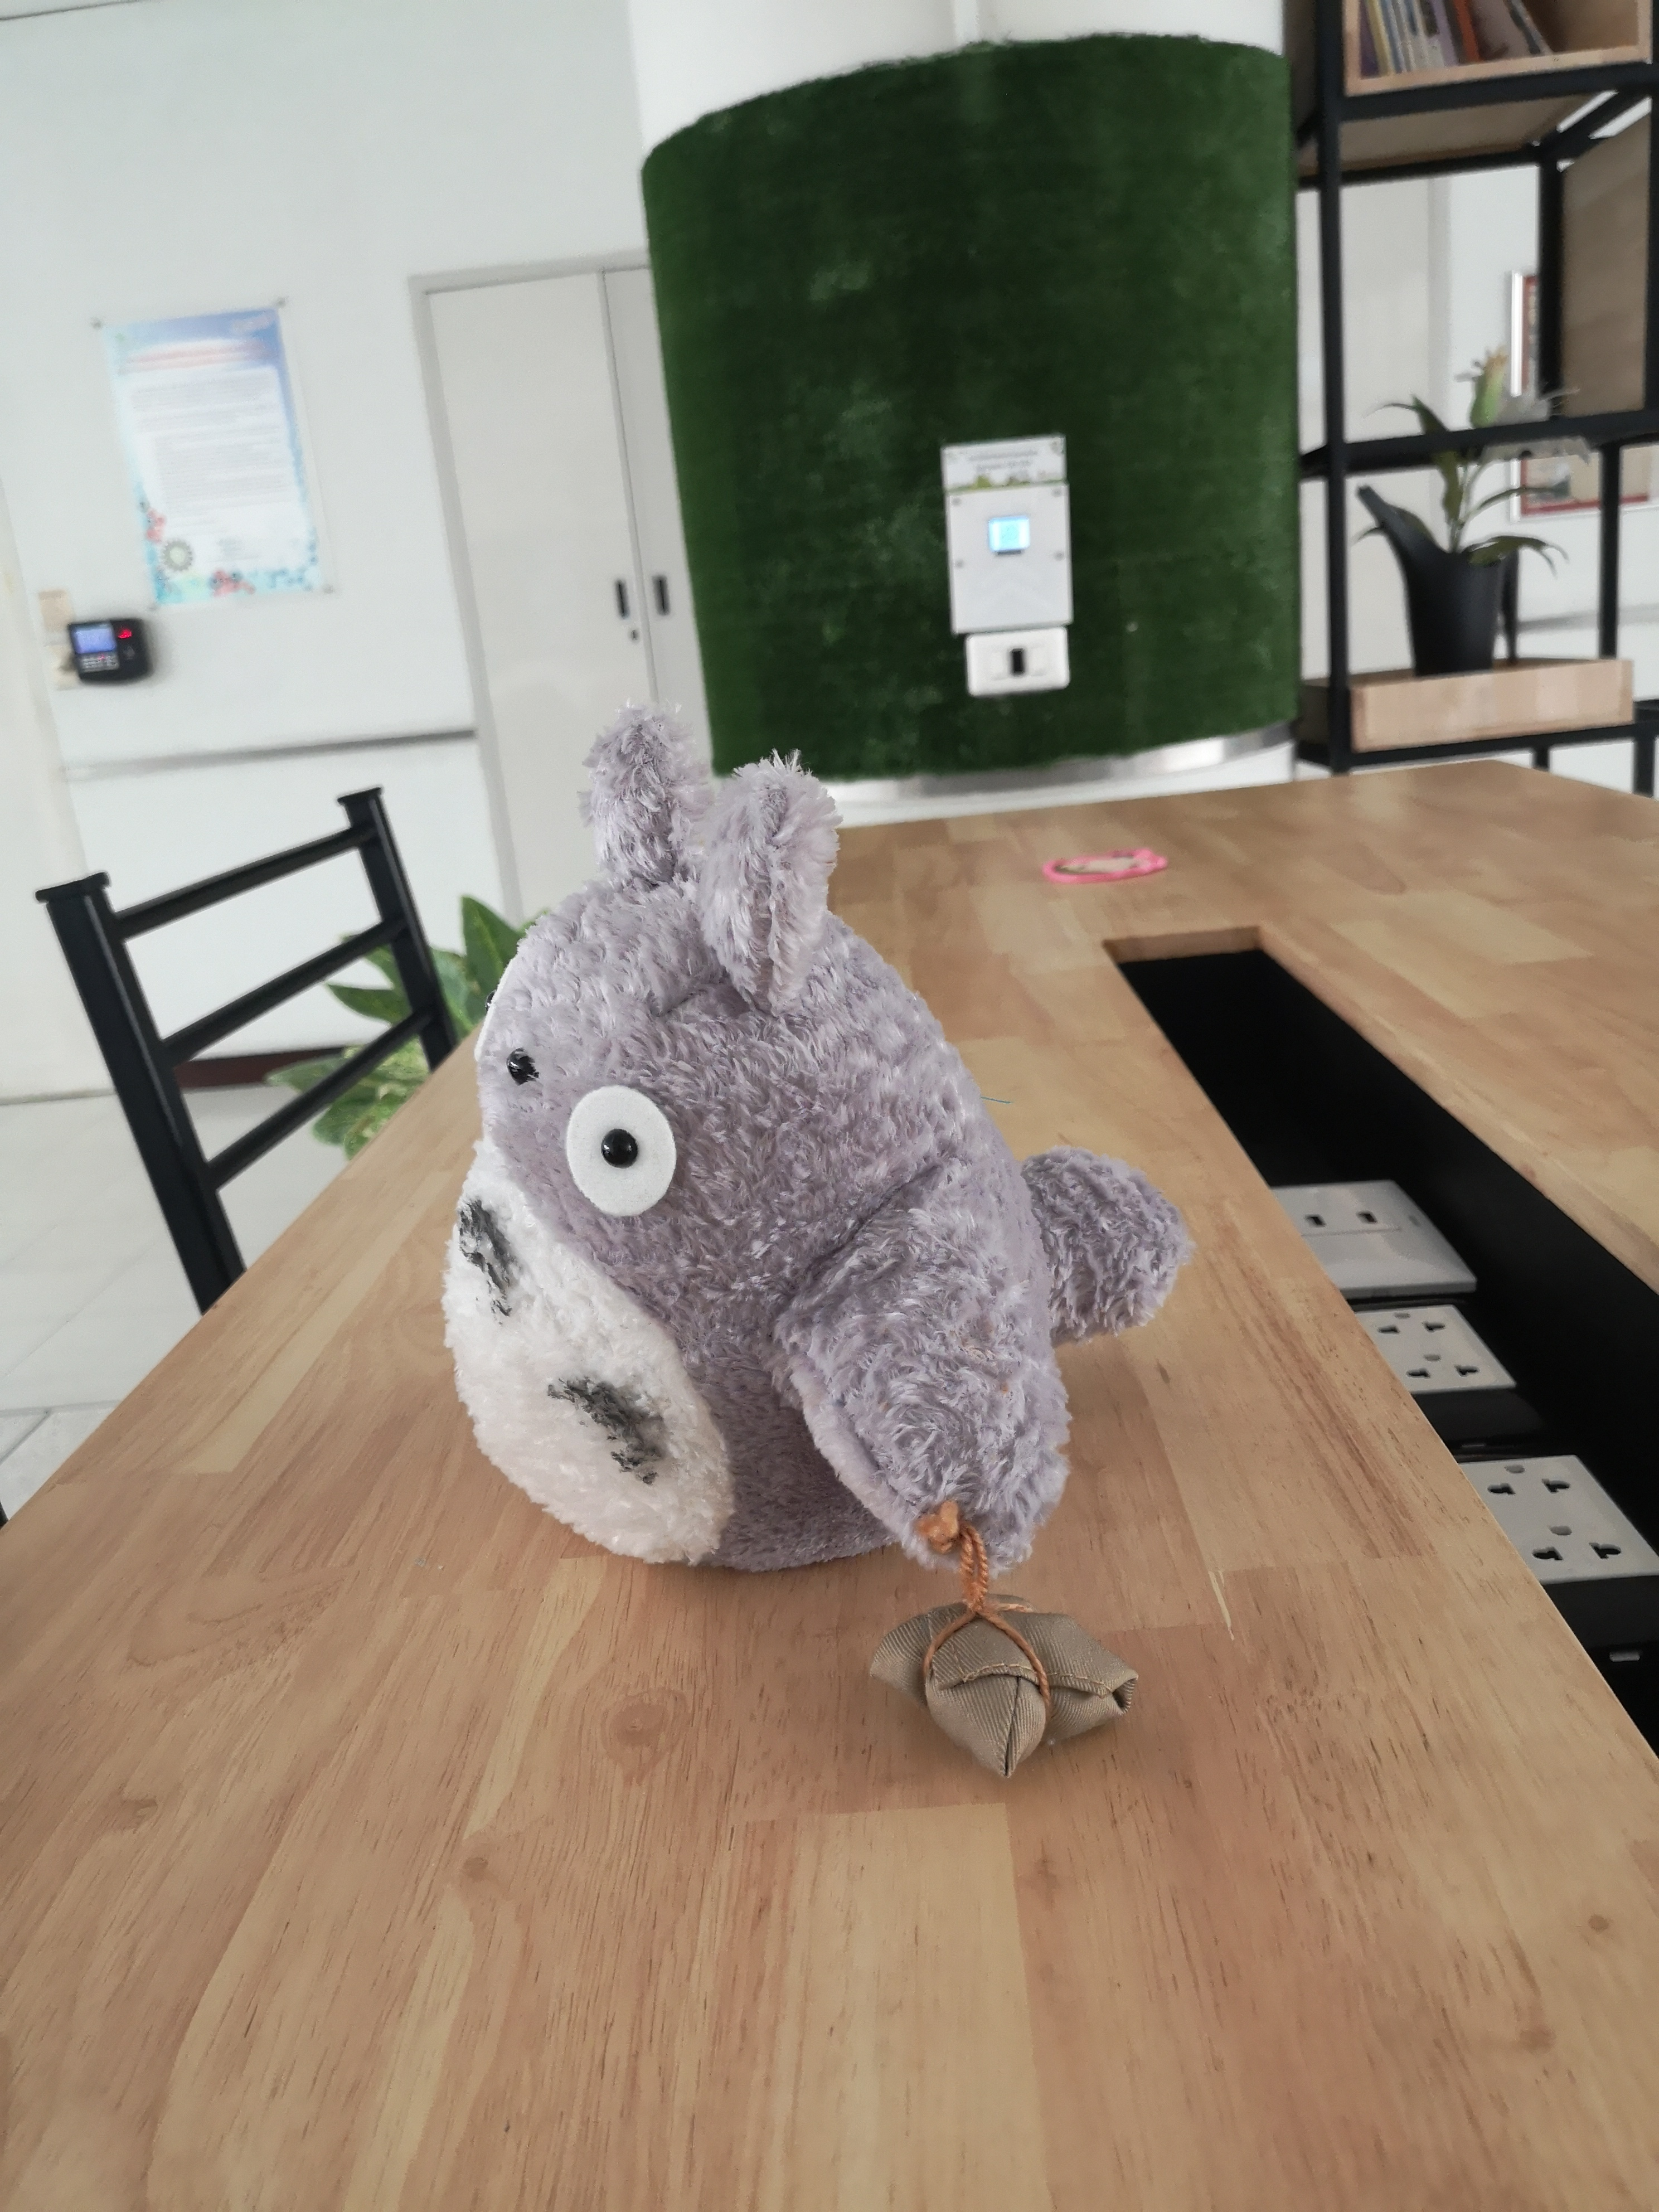totoro: (418, 697, 1208, 1799)
